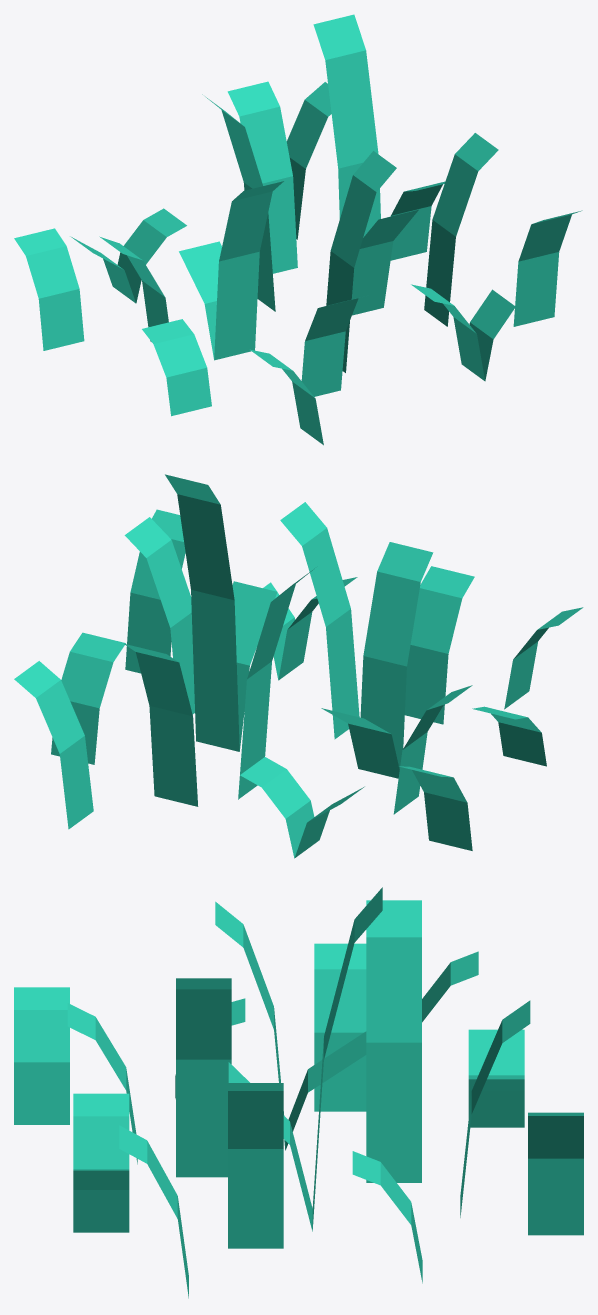
File: grass_large.obj
3 views of the same model, one above another, from view 1: azimuth 30°, elevation 25°; view 2: azimuth 150°, elevation 25°; view 3: azimuth 270°, elevation 25° (orthographic). The views are drawn at different scales.
Visible parts, largest first — view 1: Mesh grass_large; view 2: Mesh grass_large; view 3: Mesh grass_large.
Part boxes in pixels (<box>): Mesh grass_large: <box>14,14,582,445</box>; Mesh grass_large: <box>14,474,583,858</box>; Mesh grass_large: <box>14,887,583,1298</box>.
Bounding box in the file's own units: 0.409 × 0.254 × 0.4079.
